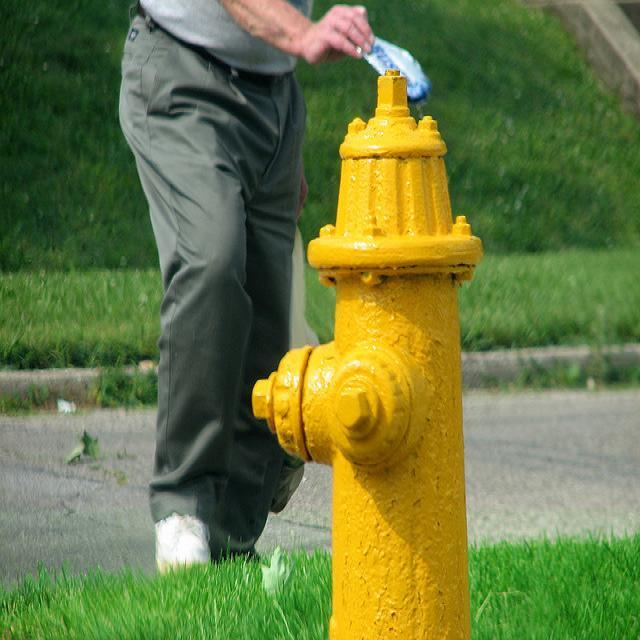fire_hydrant: (252, 65, 483, 638)
